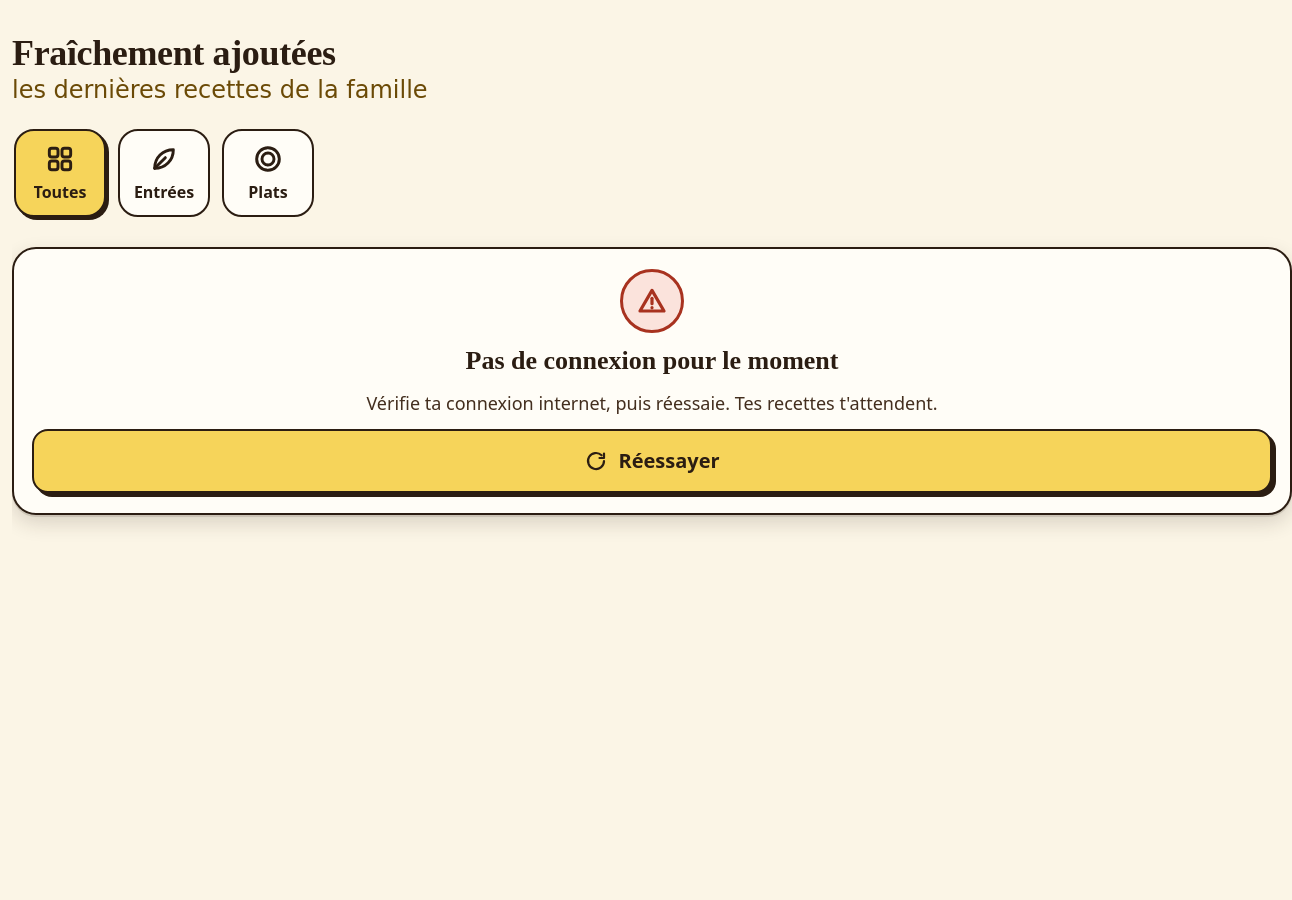
Test: HomeScreen › when the feed cannot be loaded › says there is no connection when the back end cannot be reached, and tries again on demand
Expected: the heading "Pas de connexion pour le moment" is shown, [466,345,838,377]
Expected: the message shows "Vérifie ta connexion internet, puis réessaie.", [366,391,938,415]
Click the button "Réessayer".
click(652, 461)  # box [32,429,1272,493]
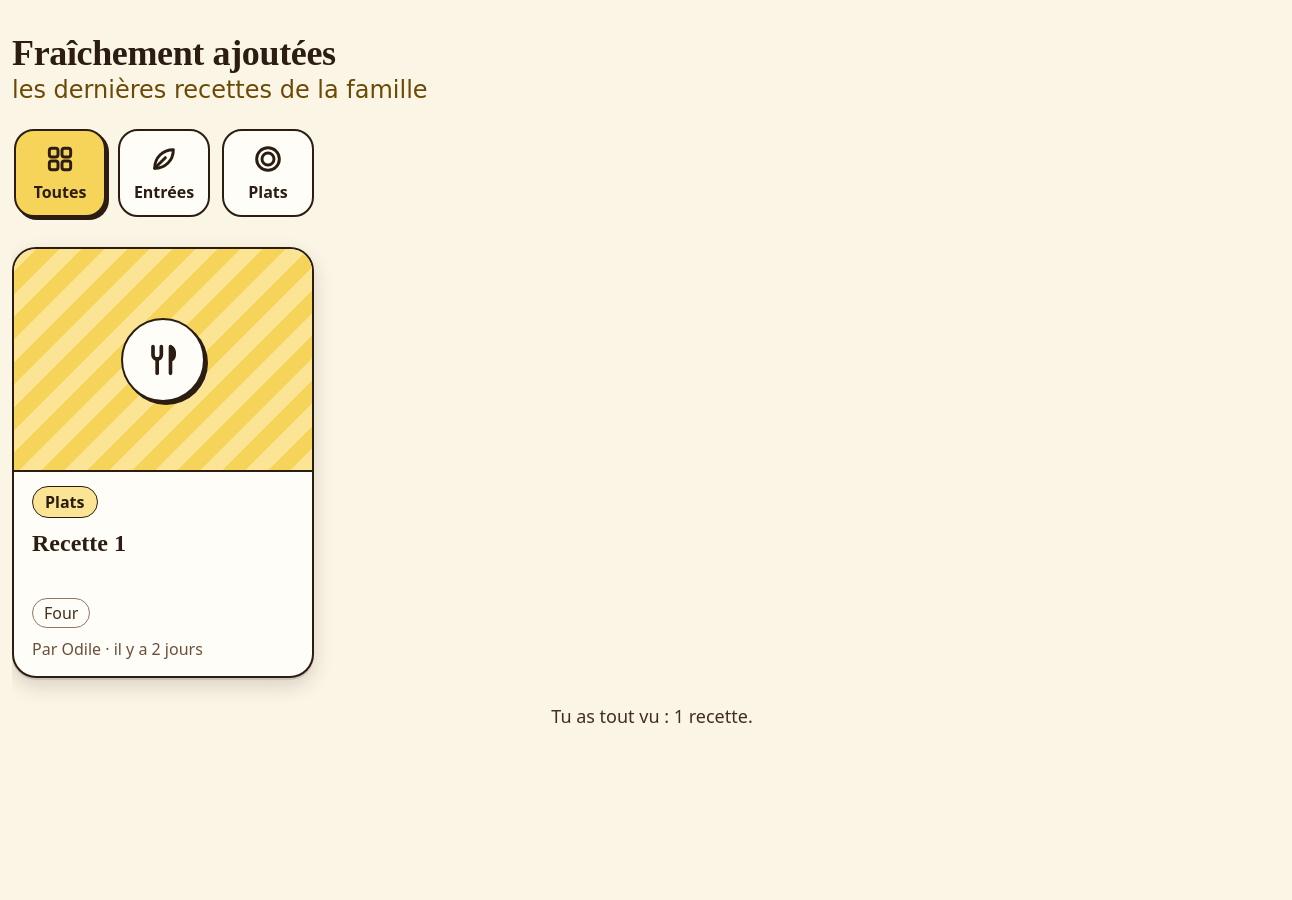
Expected: the link "Recette 1" is shown, [12,247,314,678]
Expected: the message is gone
